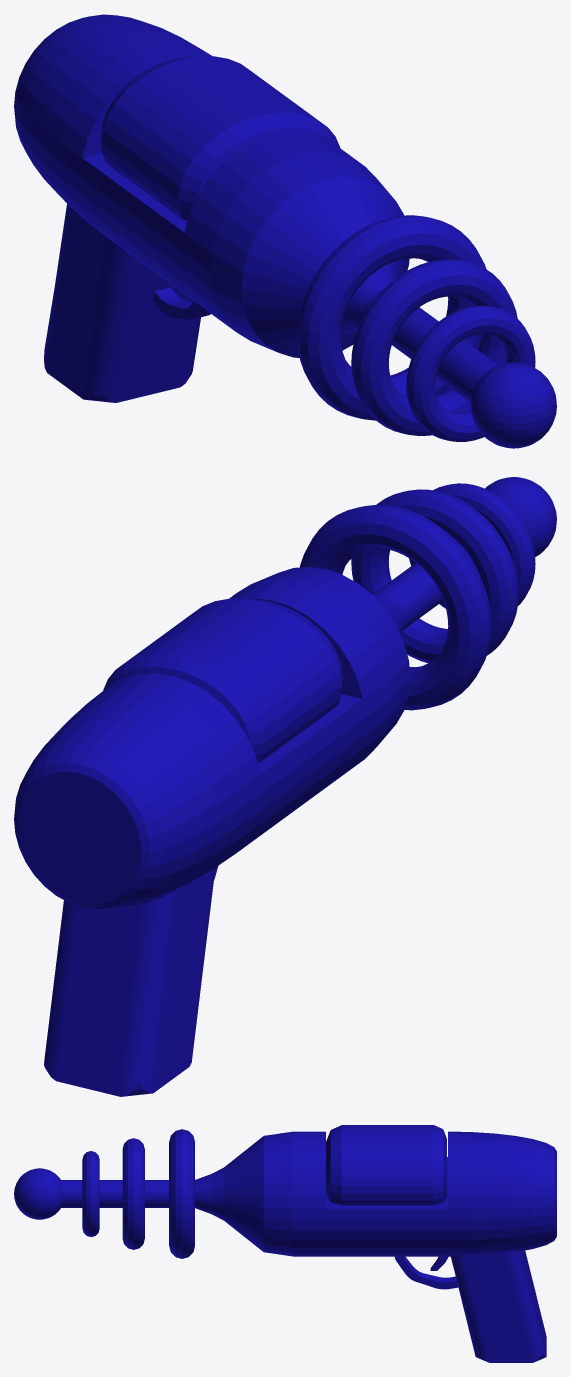
File: Raygun.fbx
3 renders of one model, top to bottom at view 1: azimuth 30°, elevation 25°; view 2: azimuth 150°, elevation 25°; view 3: azimuth 270°, elevation 25°, orthographic. The views are drawn at different scales.
Visible parts, largest first — view 1: Cylinder; view 2: Cylinder; view 3: Cylinder.
Boxes of the visible parts, x1=… form: Cylinder: x1=14, y1=14, x2=556, y2=448; Cylinder: x1=14, y1=477, x2=556, y2=1096; Cylinder: x1=14, y1=1125, x2=556, y2=1362.
Size of the model in its own units: 195 by 357 by 814.
